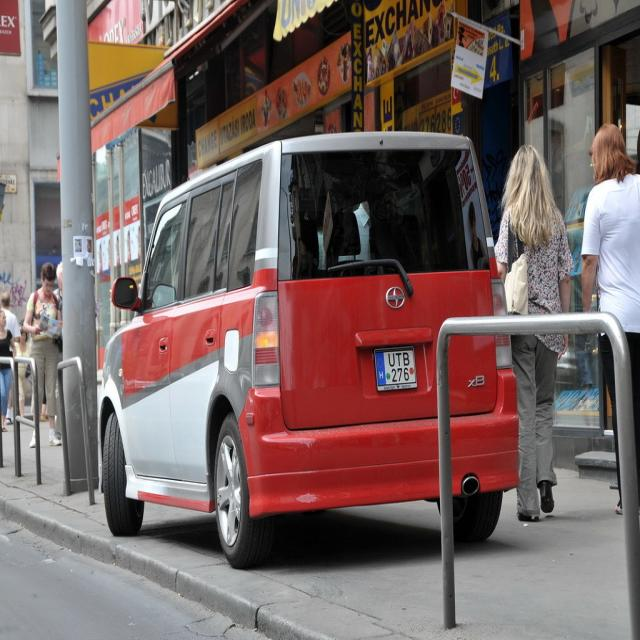car: (110, 119, 524, 583)
